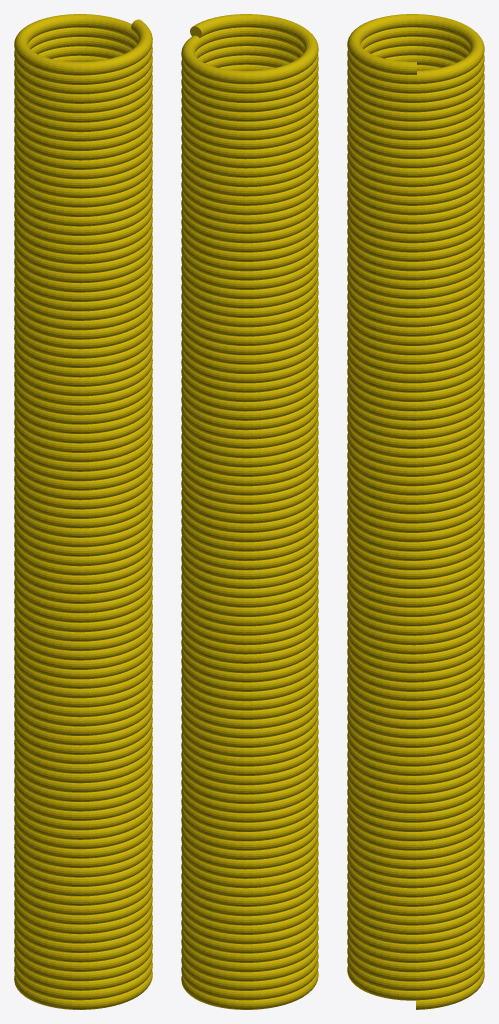
Rendered from helix.obj.
3 views of the same model, side by side, from view 1: azimuth 30°, elevation 25°; view 2: azimuth 150°, elevation 25°; view 3: azimuth 270°, elevation 25° (orthographic).
Visible parts, largest first — view 1: pHelix1; view 2: pHelix1; view 3: pHelix1.
Part boxes in pixels (<box>): pHelix1: <box>14,14,152,1009</box>; pHelix1: <box>181,14,318,1009</box>; pHelix1: <box>347,14,484,1009</box>.
Size of the model in its own units: 2 by 15.2 by 2.
